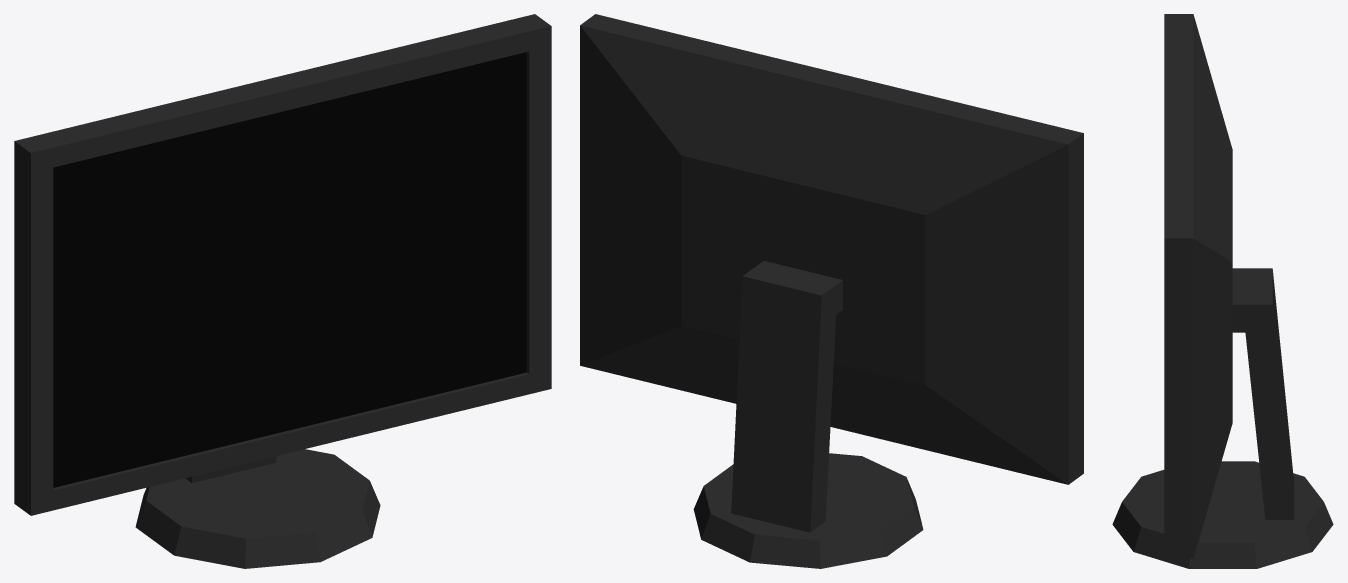
File: pc-monitor.glb
3 renders of one model, left to right at view 1: azimuth 30°, elevation 25°; view 2: azimuth 150°, elevation 25°; view 3: azimuth 270°, elevation 25°, orthographic. The views are drawn at different scales.
Parts seen in each view (by area): view 1: pc-monitor; view 2: pc-monitor; view 3: pc-monitor.
Boxes of the visible parts, left/top/right/bottom form: pc-monitor: left=14, top=14, right=551, bottom=568; pc-monitor: left=580, top=14, right=1083, bottom=568; pc-monitor: left=1112, top=14, right=1333, bottom=568.
Size of the model in its own units: 0.6 by 0.4968 by 0.25.
1 material, 1 textured.
